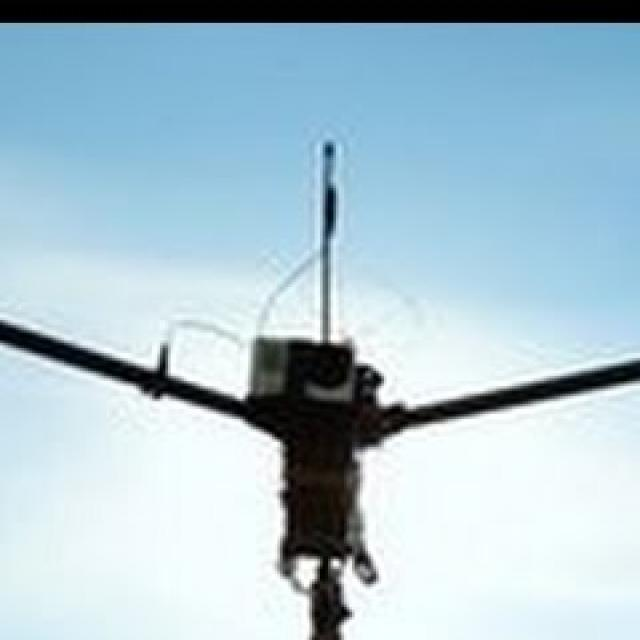drone: (0, 109, 640, 630)
